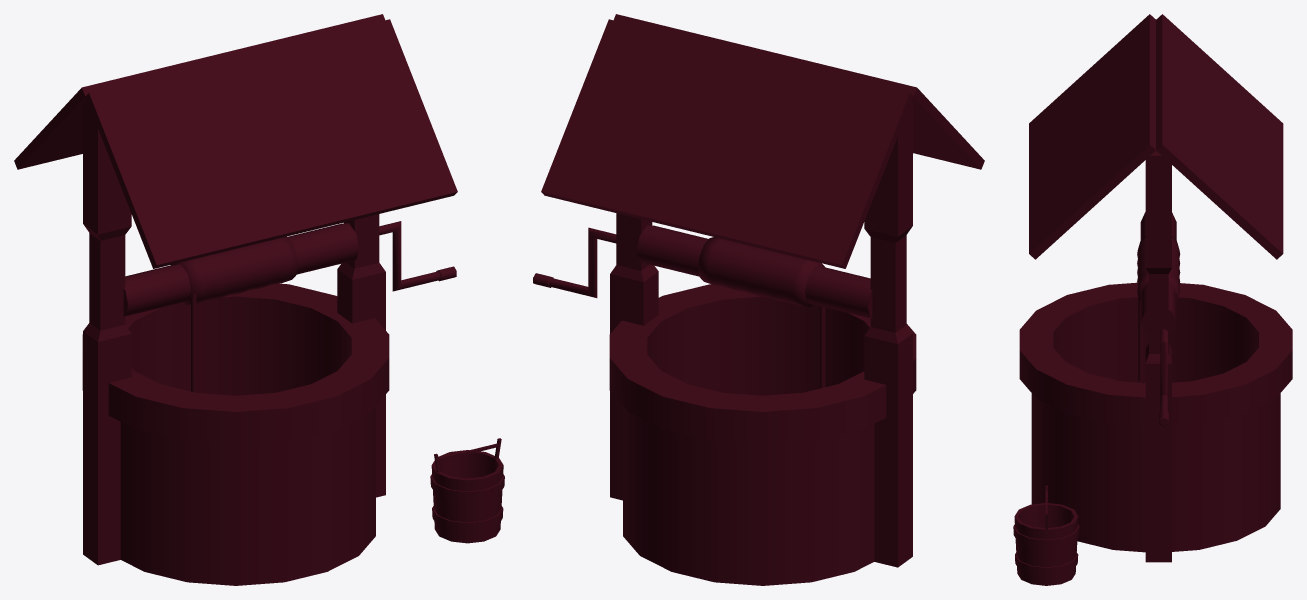
Rendered from Well.fbx.
3 renders of one model, left to right at view 1: azimuth 30°, elevation 25°; view 2: azimuth 150°, elevation 25°; view 3: azimuth 270°, elevation 25°, orthographic. The views are drawn at different scales.
Parts seen in each view (by area): view 1: Well; view 2: Well; view 3: Well.
Part boxes in pixels (box(x1,y1,x2,y2)): Well: box(14, 14, 504, 585); Well: box(533, 14, 984, 585); Well: box(1013, 14, 1292, 585).
Size of the model in its own units: 21.27 by 25.7 by 15.47.
